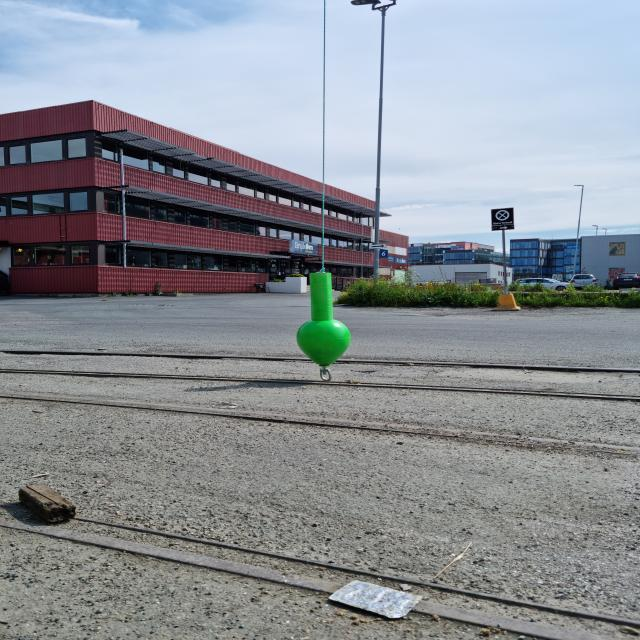green: (296, 272, 352, 367)
